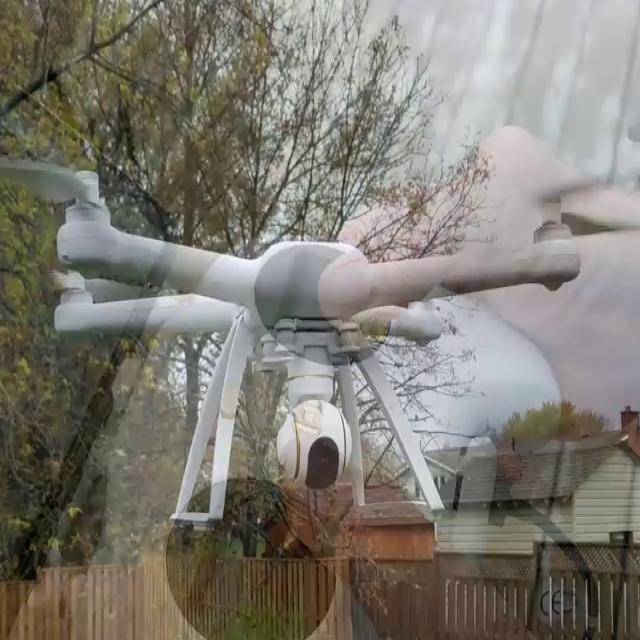drone: (0, 94, 640, 488)
